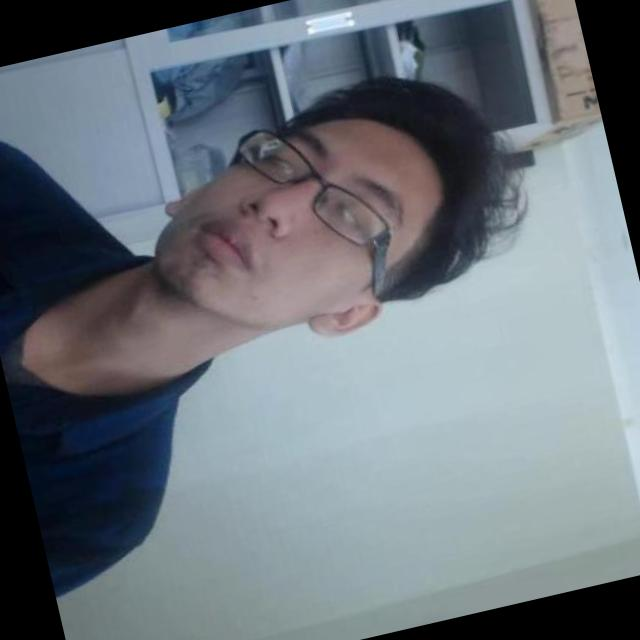bareface: (86, 0, 568, 430)
